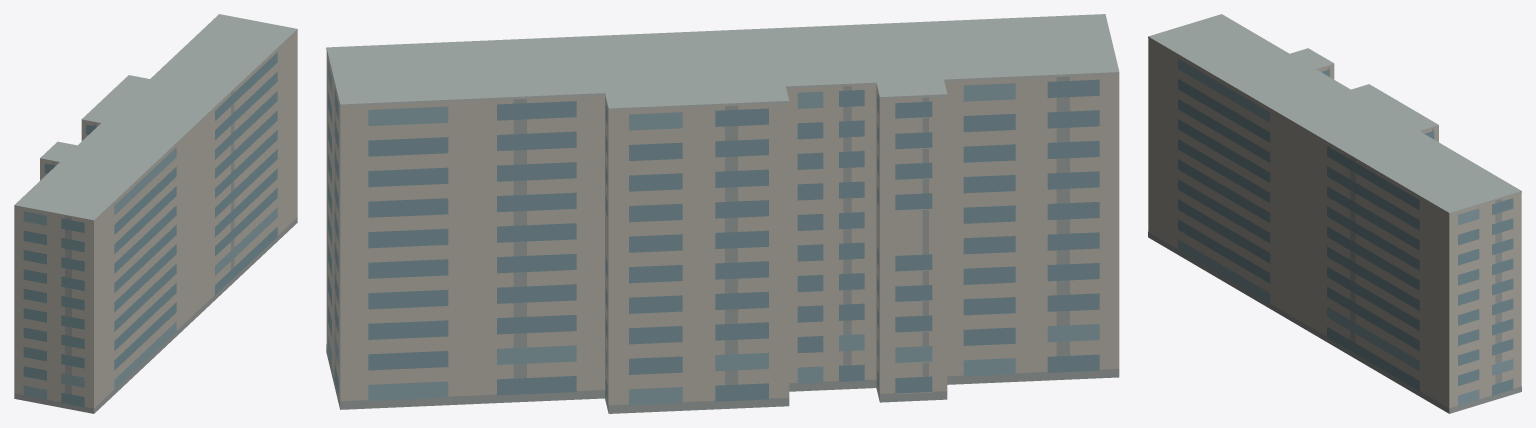
File: residential-4819474c-db44-44a4-98fb-2588de3942c2.glb
The picture shows the model from 3 angles, left to right: view 1: azimuth 30°, elevation 25°; view 2: azimuth 150°, elevation 25°; view 3: azimuth 270°, elevation 25°; orthographic projection. The views are drawn at different scales.
Parts seen in each view (by area): view 1: residential-4819474c-db44-44a4-98fb-2588de3942c2.tmp; view 2: residential-4819474c-db44-44a4-98fb-2588de3942c2.tmp; view 3: residential-4819474c-db44-44a4-98fb-2588de3942c2.tmp.
Part boxes in pixels (<box>): residential-4819474c-db44-44a4-98fb-2588de3942c2.tmp: <box>14,14,297,413</box>; residential-4819474c-db44-44a4-98fb-2588de3942c2.tmp: <box>326,14,1119,413</box>; residential-4819474c-db44-44a4-98fb-2588de3942c2.tmp: <box>1148,14,1521,413</box>.
Bounding box in the file's own units: 64.8 × 30.5 × 51.42.
